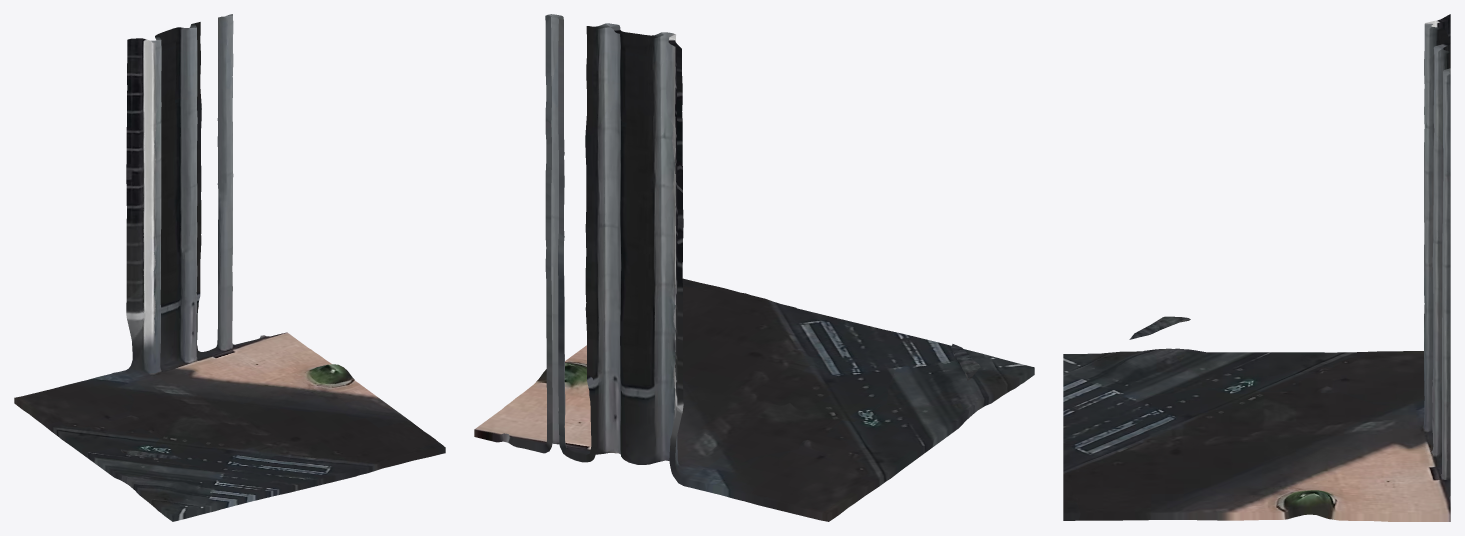
Rendered from z20-167781-405229-h0-yup-uvflip-v3-world.glb.
3 renders of one model, left to right at view 1: azimuth 30°, elevation 25°; view 2: azimuth 150°, elevation 25°; view 3: azimuth 270°, elevation 25°, orthographic. The views are drawn at different scales.
Bounding box in the file's own units: 30.16 × 35.8 × 30.32.
1 material, 1 textured.
